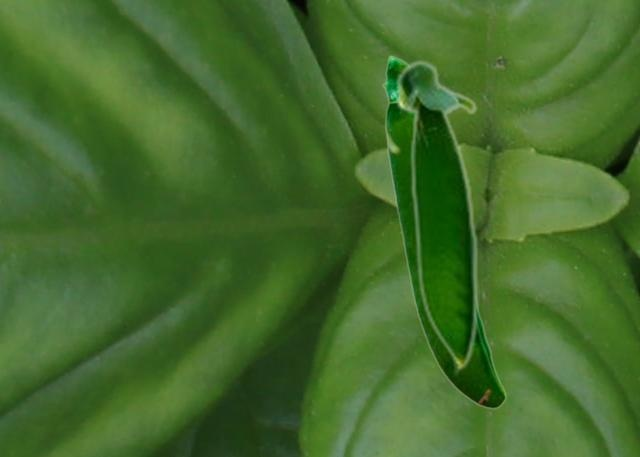pea: (382, 54, 505, 408), (394, 58, 478, 375)
